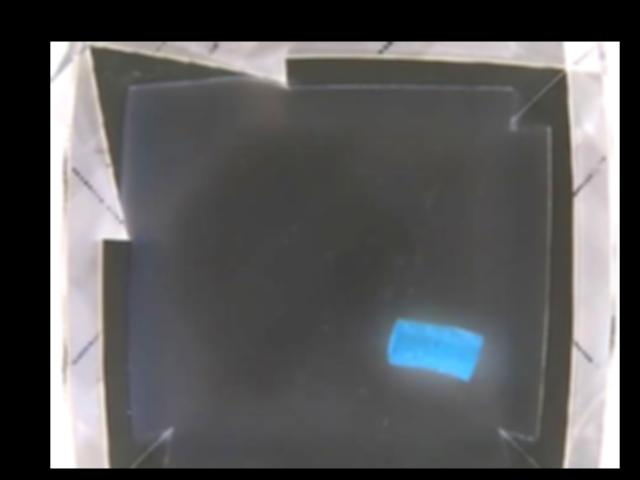Carrot: (388, 317, 487, 383)
